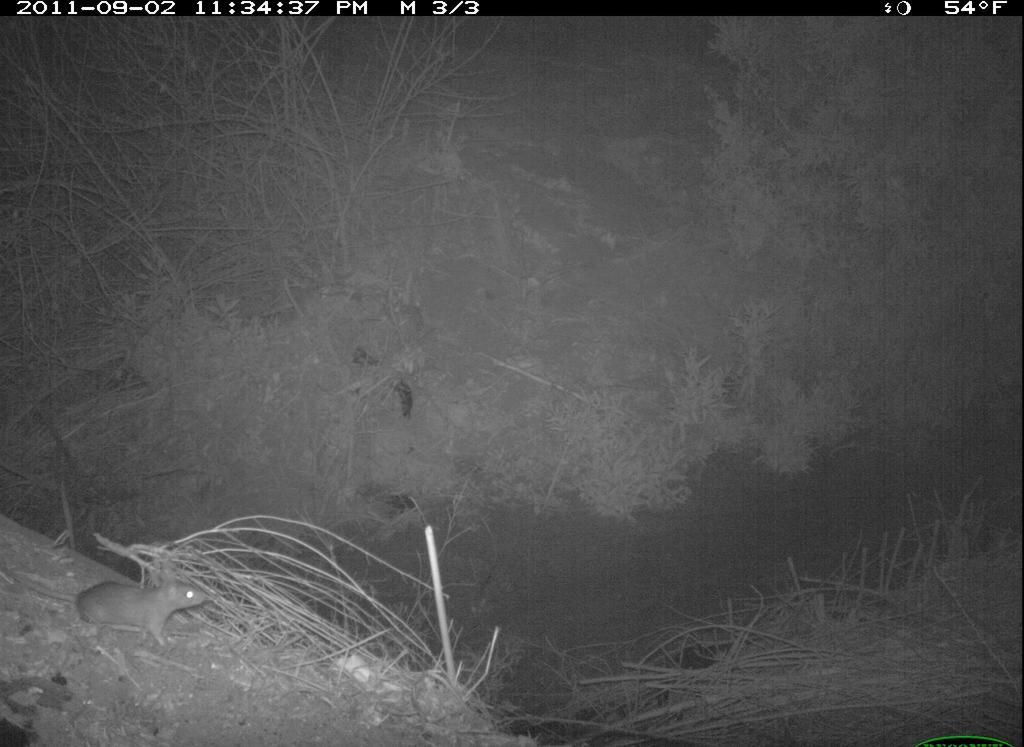rodent: (35, 561, 231, 666)
